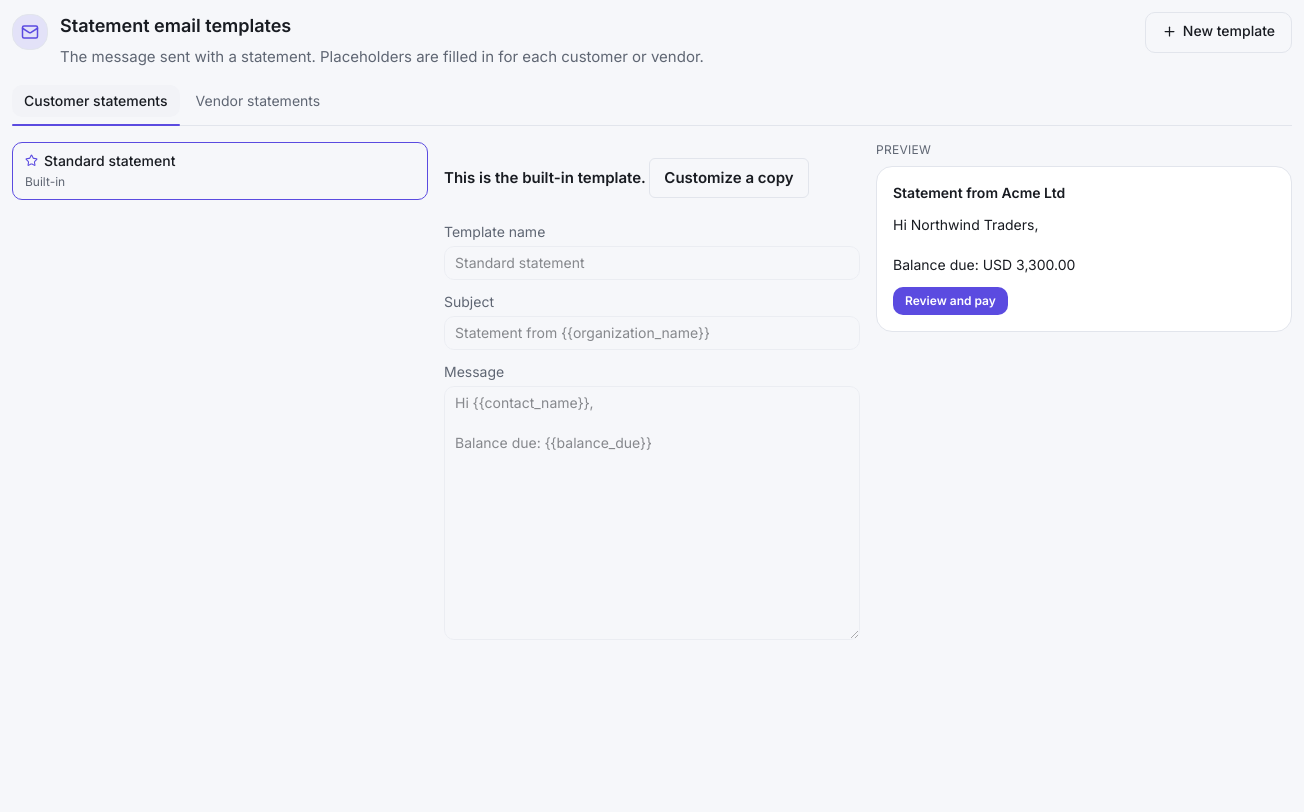
it: EmailTemplatesPage › offers to convert a legacy {{name}} template, and hints at mistyped brackets without blocking
Click the button "Customize a copy" at coordinates (729, 178), box [649,158,808,198]
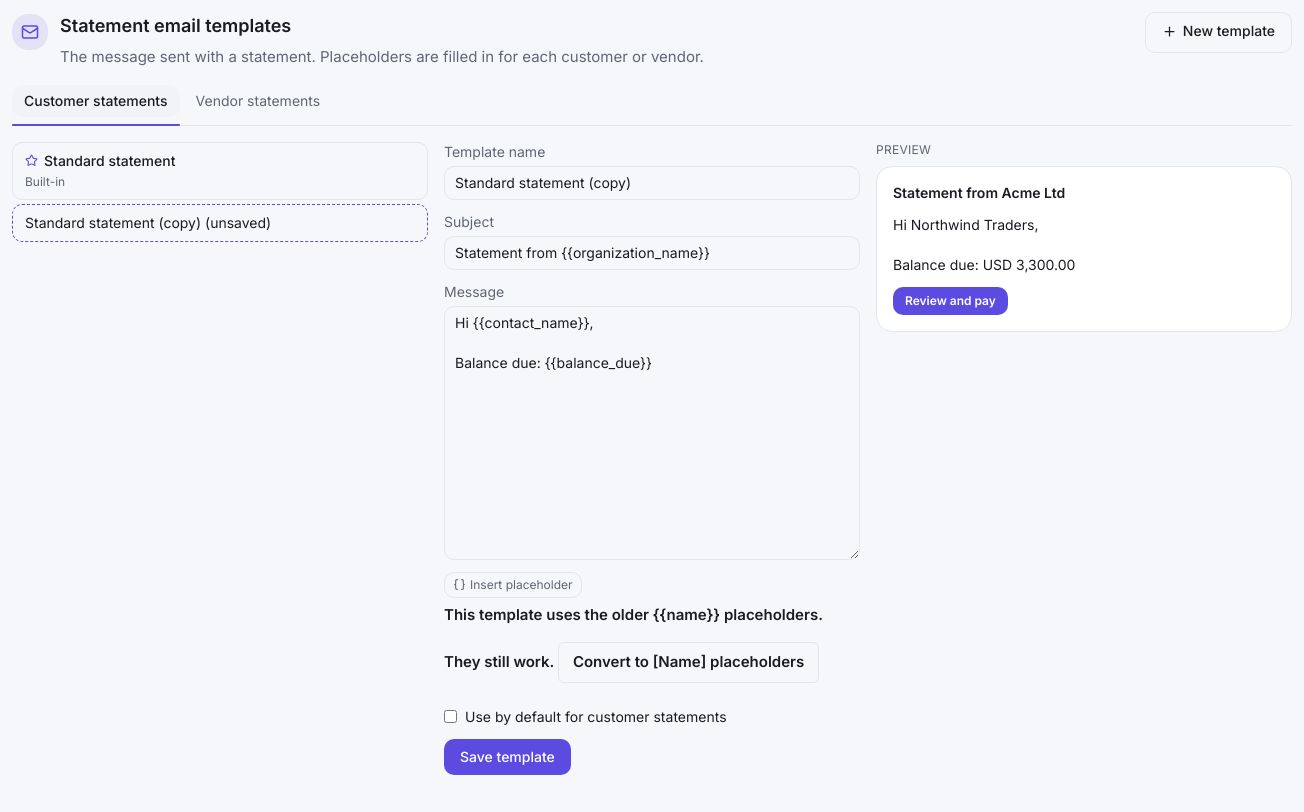
Click the button "Convert to [Name] placeholders" at coordinates (689, 662), box [558,642,819,682]
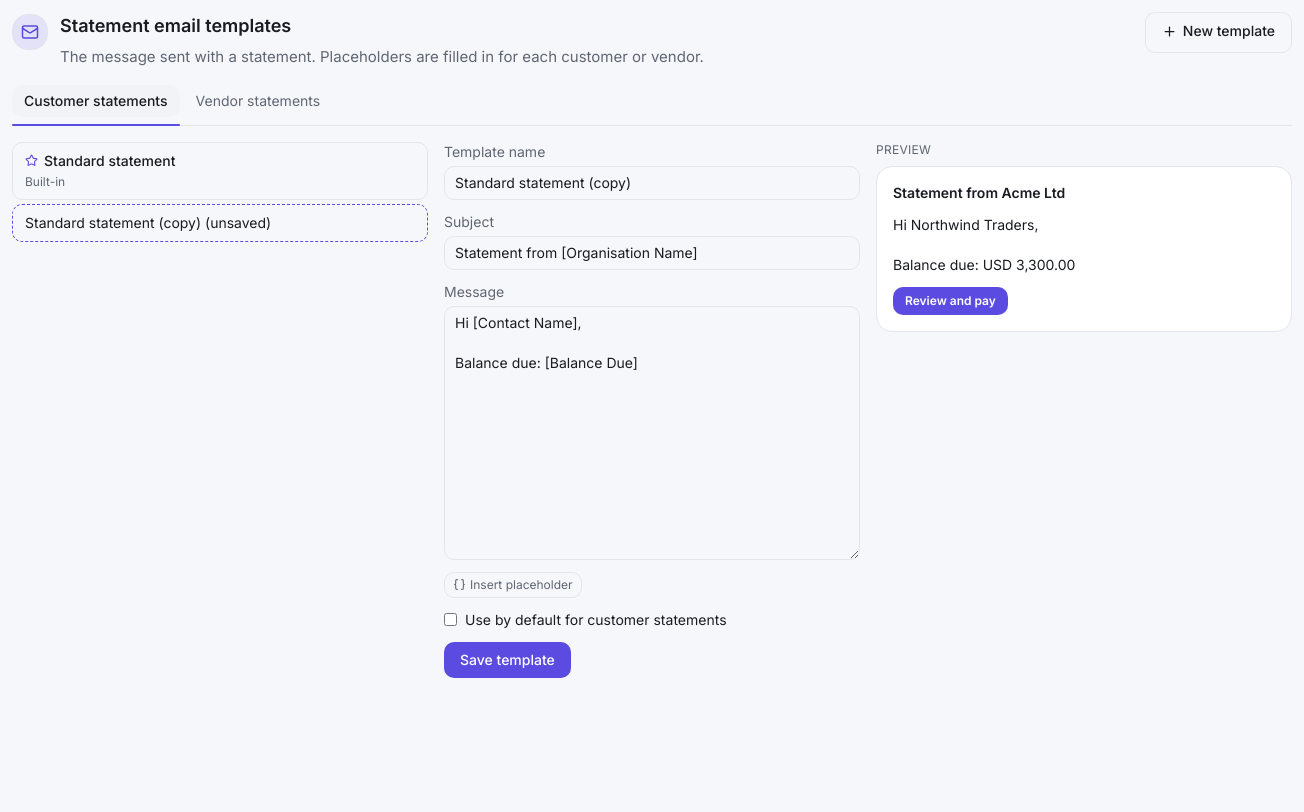
Now the field labelled "Subject" holds "Statement from [Organisation Name]"
Now the button "Convert to [Name] placeholders" is gone
Type " [ [Balanse Due]" into the field labelled "Subject" at coordinates (652, 252), box [444,236,860,270]
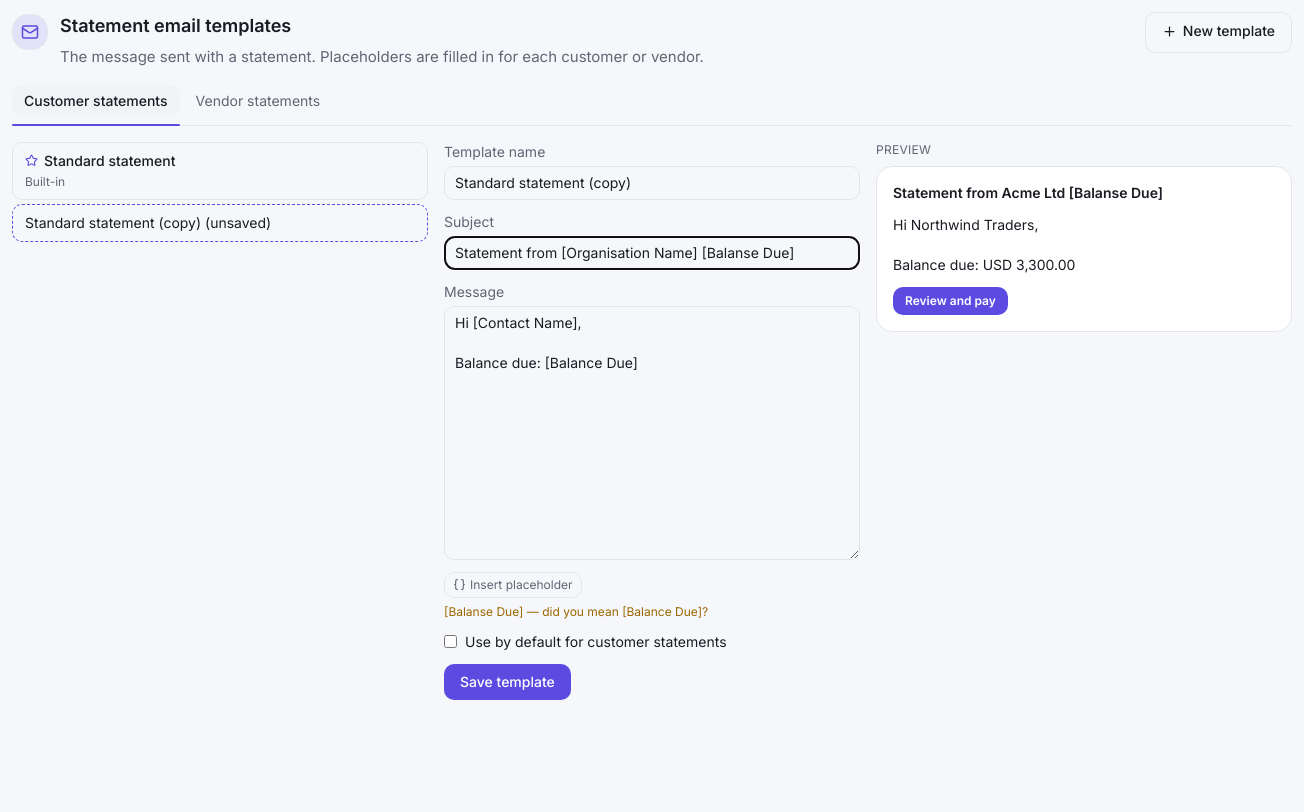
Now the button "Save template" is enabled, box [444,664,571,700]
Now the text "[Balanse Due] — did you mean [Balance Due]?" is shown, box [444,604,708,618]
